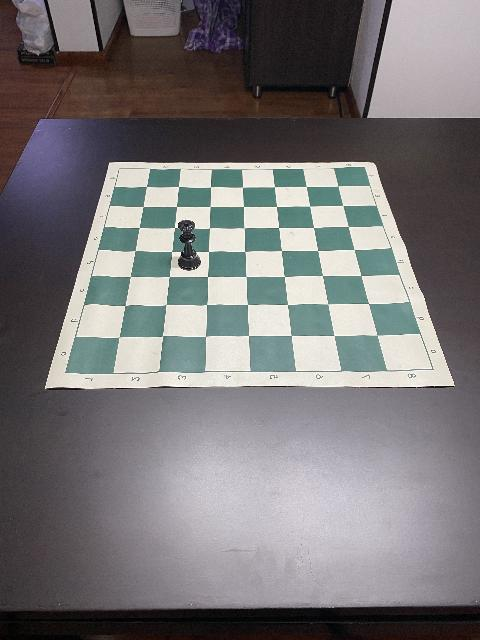black-queen: (176, 218, 202, 270)
board: (44, 162, 454, 390)
